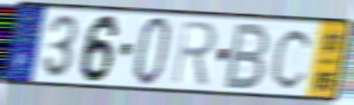0: (131, 15, 173, 88)
3: (39, 13, 80, 80)
6: (77, 12, 124, 85)
B: (221, 21, 272, 91)
C: (268, 26, 316, 92)
R: (169, 18, 219, 87)
